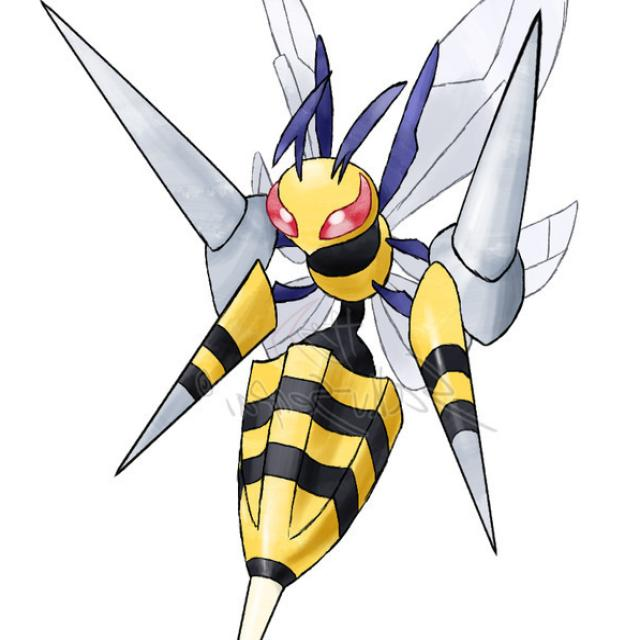Beedrill: (151, 78, 513, 564)
